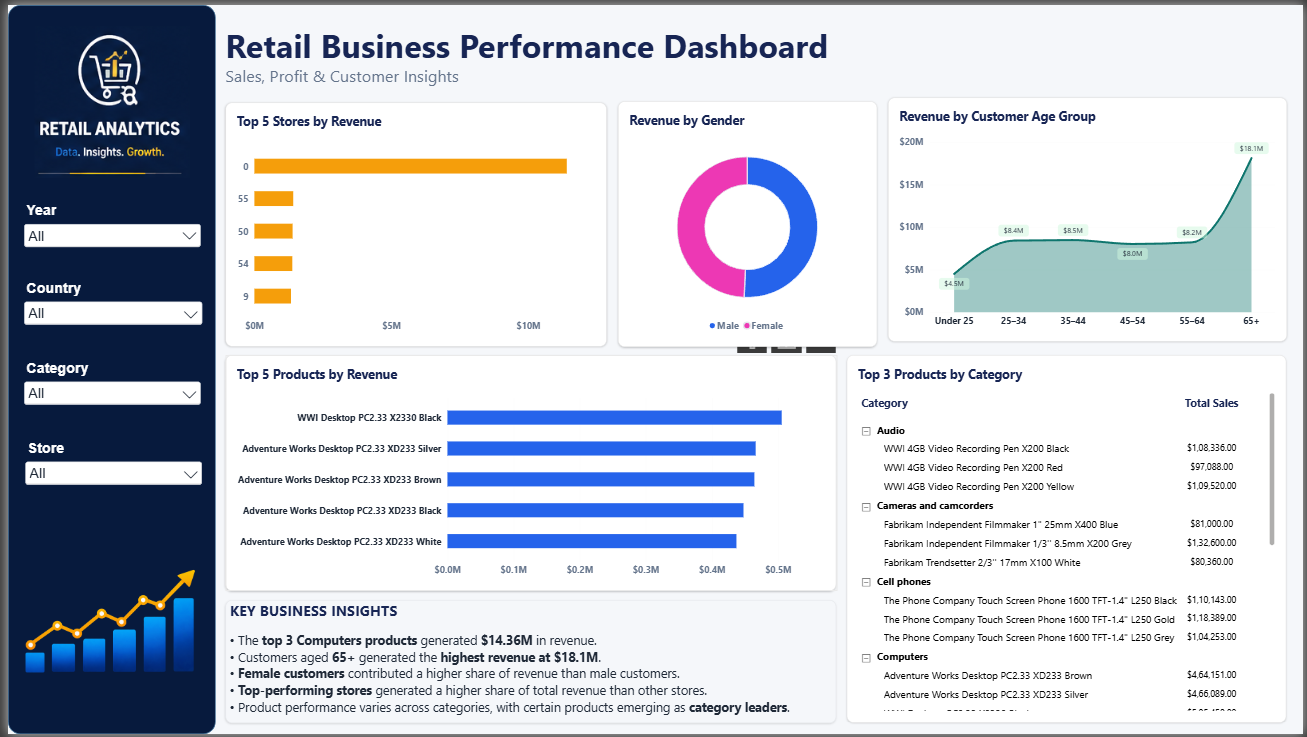

The dashboard page shown, as its layout file describes it:
{"tool":"powerbi","page":{"name":"Product & Customer Insights","canvas":[1920,1080],"ordinal":1},"visuals":[{"type":"shape","box":[0,0,307.6,1080.4],"z":0},{"type":"slicer","fields":{"Values":["Calendar.Date.Variation.Date Hierarchy.Year"]},"box":[11.1,284.4,287.7,101],"z":1000},{"type":"slicer","fields":{"Values":["customers.country"]},"box":[10.9,407.2,289.5,99.5],"z":2000},{"type":"slicer","fields":{"Values":["products.category"]},"box":[10.9,526.6,287.7,76],"z":3000},{"type":"slicer","fields":{"Values":["stores.store_key"]},"box":[13.3,644.4,287.7,76],"z":4000},{"type":"image","box":[0,720.4,308.2,359.2],"z":5000},{"type":"image","box":[0,32.1,308.9,225],"z":6000},{"type":"textbox","box":[322.1,25.3,998.9,85.1],"z":7000},{"type":"textbox","box":[322.1,88.7,562.8,48.9],"z":8000},{"type":"clusteredBarChart","title":"Top 5 Products by Revenue","fields":{"Category":["products.product_name"],"Y":["sales.Total Sales"]},"box":[322.1,519.4,904.8,349.3],"z":9000},{"type":"areaChart","title":"Revenue by Customer Age Group","fields":{"Y":["sales.Total Sales"],"Category":["customers.Age Group"]},"box":[1303,137.5,591,361.9],"z":10000},{"type":"clusteredBarChart","title":"Top 5 Stores by Revenue","fields":{"Category":["stores.store_key"],"Y":["sales.Total Sales"]},"box":[322.1,144.8,565,361.9],"z":11000},{"type":"textbox","box":[322.1,881.3,904.8,182.8],"z":12000},{"type":"donutChart","title":"Revenue by Gender","fields":{"Category":["customers.gender"],"Y":["sales.Total Sales"]},"box":[903.2,143,383.6,363.7],"z":13000},{"type":"pivotTable","title":"Top 3 Products by Category","fields":{"Rows":["products.category","products.product_name"],"Values":["sales.Total Sales"]},"box":[1243.2,519.4,651.5,544.7],"z":14000}]}

Visuals, with their boxes in screenshot pixels (x1, y1, x2, y2), scaled from the page's 1920x1080 canvas onto the 1307x737 screenshot:
shape: box(0, 0, 209, 736)
slicer - Calendar.Date.Variation.Date Hierarchy.Year: box(8, 194, 203, 263)
slicer - customers.country: box(7, 278, 204, 346)
slicer - products.category: box(7, 359, 203, 411)
slicer - stores.store_key: box(9, 440, 205, 492)
image: box(0, 492, 210, 736)
image: box(0, 22, 210, 175)
textbox: box(219, 17, 899, 75)
textbox: box(219, 61, 602, 94)
"Top 5 Products by Revenue" clusteredBarChart: box(219, 354, 835, 593)
"Revenue by Customer Age Group" areaChart: box(887, 94, 1289, 341)
"Top 5 Stores by Revenue" clusteredBarChart: box(219, 99, 604, 346)
textbox: box(219, 601, 835, 726)
"Revenue by Gender" donutChart: box(615, 98, 876, 346)
"Top 3 Products by Category" pivotTable: box(846, 354, 1290, 726)
